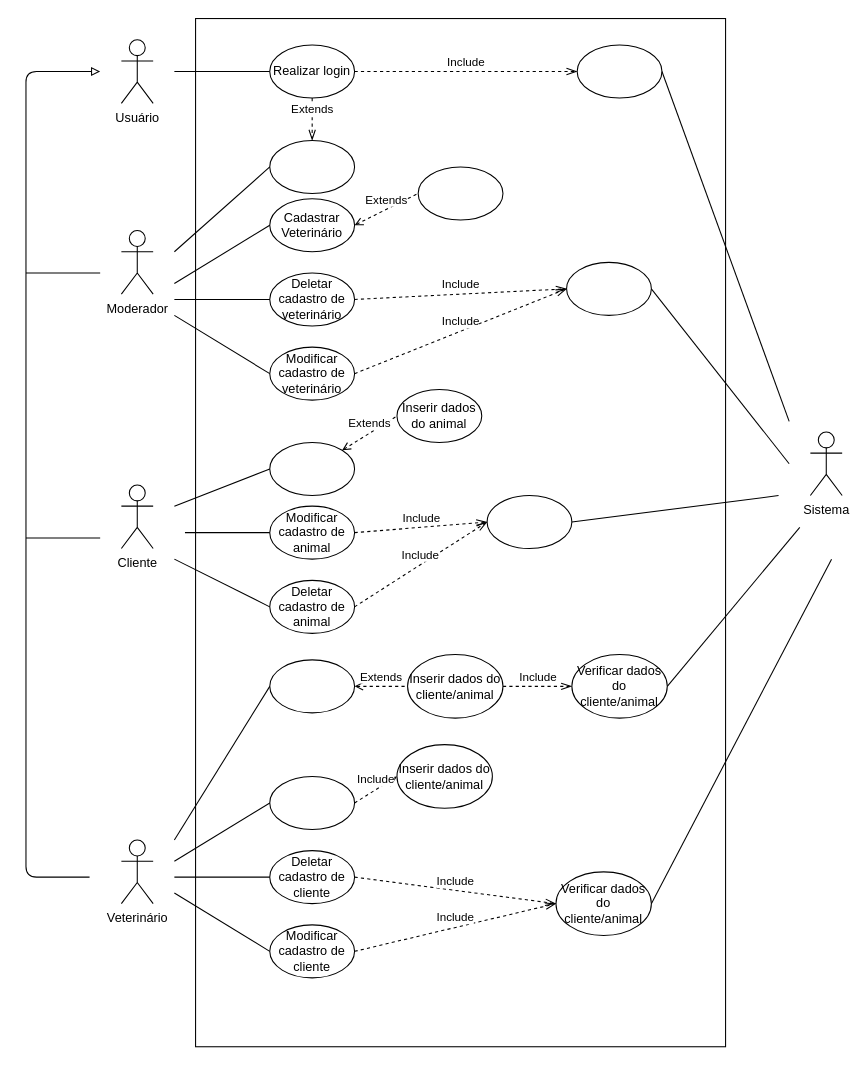
The diagram is 867 pixels wide and 1065 high, and some of its shapes have lost their labels. The centre of each missing label's shape, as x and y in pixels:
"Cadastrar animal" belongs at (x=312, y=468).
"Cadastrar cliente" belongs at (x=312, y=802).
"Cadastrar usuário" belongs at (x=312, y=166).
"Inserir dados do veterinário" belongs at (x=460, y=193).
"Marcar consulta" belongs at (x=312, y=686).
"Verificar dados do animal" belongs at (x=529, y=521).
"Verificar dados dos veterinários" belongs at (x=608, y=288).
"Verificar senha" belongs at (x=619, y=71).
